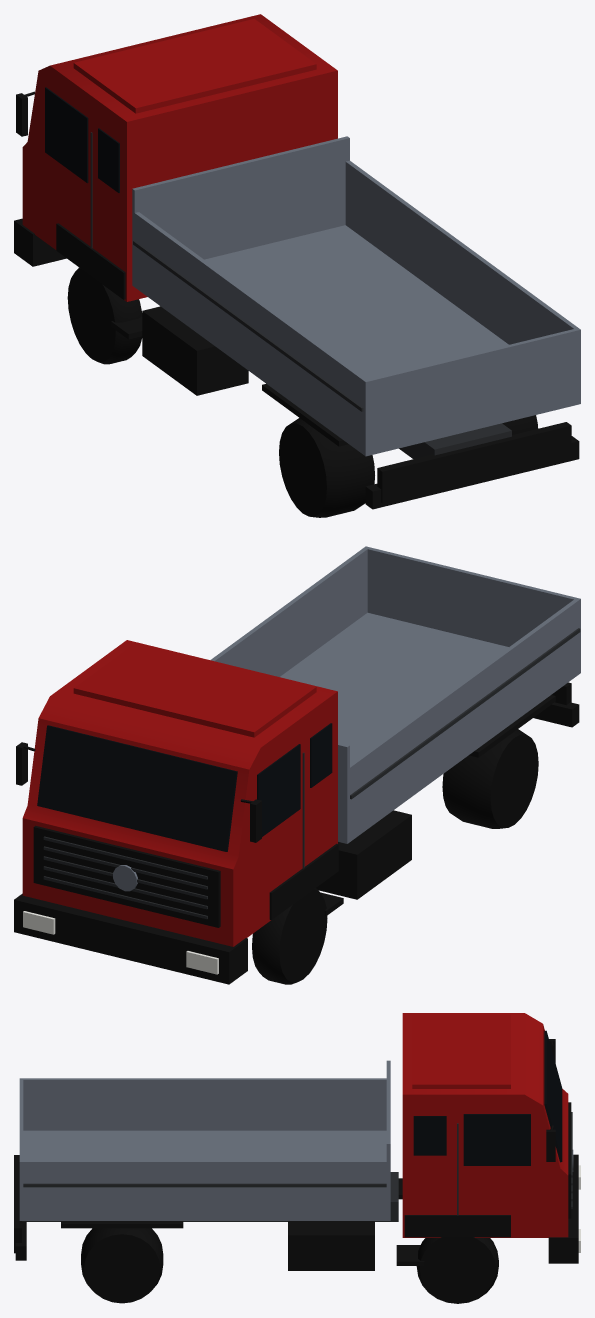
The model's file is plant.truck.dropside_2_axle.glb.
3 views of the same model, one above another, from view 1: azimuth 30°, elevation 25°; view 2: azimuth 150°, elevation 25°; view 3: azimuth 270°, elevation 25° (orthographic). The views are drawn at different scales.
Parts seen in each view (by area): view 1: body__steel_painted, chassis__car_red, chassis__plastic_black, wheels__rubber, body__plastic_black, chassis__glass_dark, chassis__steel_dark, body__steel_dark; view 2: body__steel_painted, chassis__car_red, chassis__plastic_black, chassis__glass_dark, wheels__rubber, chassis__steel_dark, body__steel_dark, chassis__paint_white; view 3: body__steel_painted, chassis__car_red, chassis__plastic_black, wheels__rubber, chassis__glass_dark, body__steel_dark, chassis__steel_dark, body__plastic_black.
Part boxes in pixels (x1,y1,x2,y2): body__steel_painted: (132, 136, 580, 456); chassis__car_red: (22, 14, 337, 301); chassis__plastic_black: (14, 91, 579, 509); wheels__rubber: (67, 267, 538, 517); body__plastic_black: (377, 422, 571, 502); chassis__glass_dark: (45, 87, 119, 192); chassis__steel_dark: (90, 132, 511, 458); body__steel_dark: (133, 240, 363, 411); body__steel_painted: (210, 546, 580, 843); chassis__car_red: (22, 640, 337, 946); chassis__plastic_black: (14, 695, 579, 984); chassis__glass_dark: (37, 723, 332, 851); wheels__rubber: (252, 729, 538, 984); chassis__steel_dark: (43, 752, 304, 919); body__steel_dark: (350, 628, 580, 799); chassis__paint_white: (23, 911, 218, 974); body__steel_painted: (19, 1060, 390, 1220); chassis__car_red: (402, 1013, 568, 1237); chassis__plastic_black: (15, 1039, 578, 1270); wheels__rubber: (81, 1228, 498, 1303); chassis__glass_dark: (413, 1030, 562, 1165); body__steel_dark: (23, 1183, 386, 1187); chassis__steel_dark: (22, 1112, 572, 1221); body__plastic_black: (14, 1155, 21, 1253).
Bounding box in the file's own units: 2.79 × 3.01 × 7.18.
